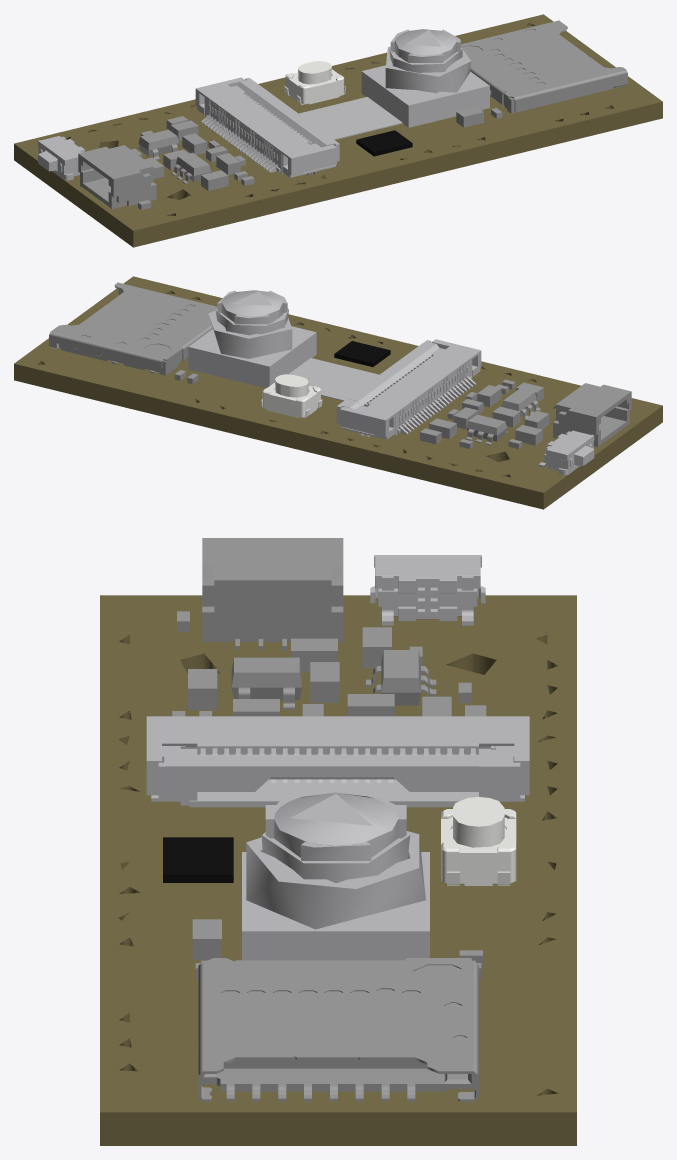
The model's file is ada-5945.glb.
3 renders of one model, top to bottom at view 1: azimuth 30°, elevation 25°; view 2: azimuth 150°, elevation 25°; view 3: azimuth 270°, elevation 25°, orthographic. The views are drawn at different scales.
Visible parts, largest first — view 1: 0.16666666666666666_0.16666666666666666_0.08333333333333333_, 0.5833333333333334_0.5833333333333334_0.5833333333333334_0.8, 0.3333333333333333_0.3333333333333333_0.3333333333333333_0, 0.9166666666666666_0.9166666666666666_0.9166666666666666_0.8, 0_0_0_0; view 2: 0.16666666666666666_0.16666666666666666_0.08333333333333333_, 0.5833333333333334_0.5833333333333334_0.5833333333333334_0.8, 0.3333333333333333_0.3333333333333333_0.3333333333333333_0, 0.9166666666666666_0.9166666666666666_0.9166666666666666_0.8, 0_0_0_0; view 3: 0.16666666666666666_0.16666666666666666_0.08333333333333333_, 0.5833333333333334_0.5833333333333334_0.5833333333333334_0.8, 0.3333333333333333_0.3333333333333333_0.3333333333333333_0, 0.9166666666666666_0.9166666666666666_0.9166666666666666_0.8, 0_0_0_0.
Part boxes in pixels (x1,y1,x2,y2): 0.16666666666666666_0.16666666666666666_0.08333333333333333_: [14, 14, 662, 247]; 0.5833333333333334_0.5833333333333334_0.5833333333333334_0.8: [38, 29, 489, 180]; 0.3333333333333333_0.3333333333333333_0.3333333333333333_0: [78, 20, 627, 209]; 0.9166666666666666_0.9166666666666666_0.9166666666666666_0.8: [284, 61, 345, 104]; 0_0_0_0: [356, 130, 412, 156]; 0.16666666666666666_0.16666666666666666_0.08333333333333333_: [14, 276, 662, 509]; 0.5833333333333334_0.5833333333333334_0.5833333333333334_0.8: [188, 290, 594, 475]; 0.3333333333333333_0.3333333333333333_0.3333333333333333_0: [49, 282, 631, 448]; 0.9166666666666666_0.9166666666666666_0.9166666666666666_0.8: [261, 374, 322, 418]; 0_0_0_0: [334, 341, 390, 366]; 0.16666666666666666_0.16666666666666666_0.08333333333333333_: [100, 595, 576, 1145]; 0.5833333333333334_0.5833333333333334_0.5833333333333334_0.8: [146, 555, 529, 960]; 0.3333333333333333_0.3333333333333333_0.3333333333333333_0: [172, 538, 486, 1101]; 0.9166666666666666_0.9166666666666666_0.9166666666666666_0.8: [441, 797, 516, 885]; 0_0_0_0: [163, 837, 233, 882].
Bounding box in the file's own units: 5.29 × 0.7436 × 2.03.
